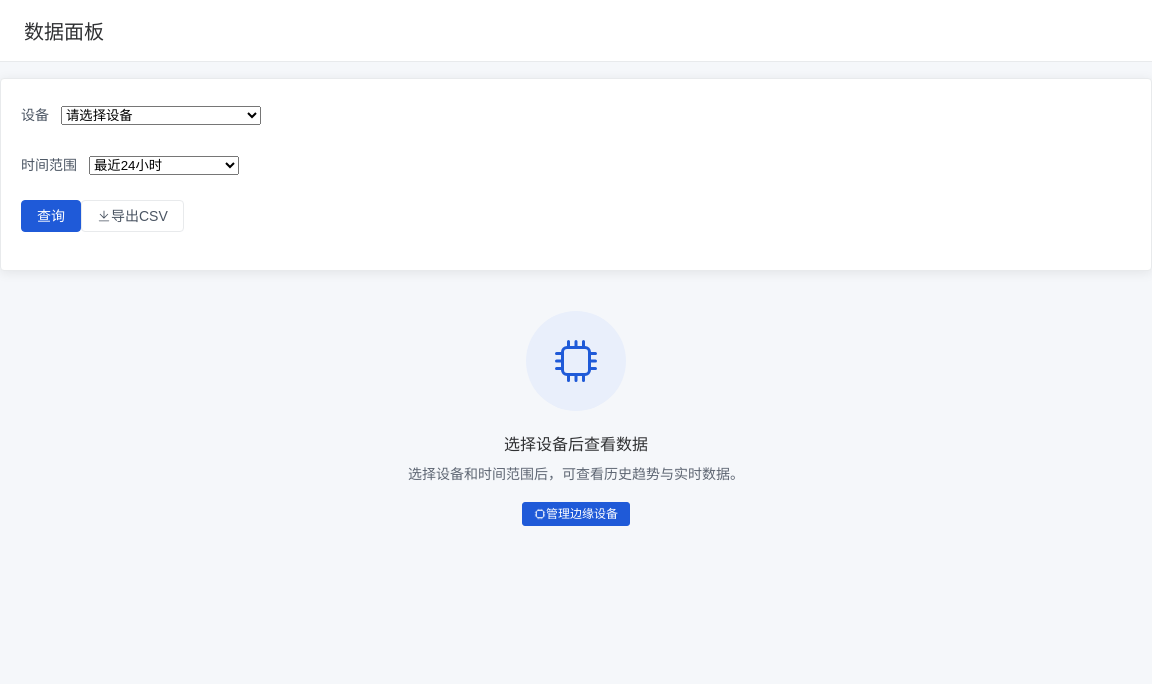
DataPanel › 每张统计卡都带范围词，且范围与实际计算口径一致
The width and height of the screenshot is (1152, 684).
Select "设备 1" in the 1st dropdown at (161, 115), box x1=61 y1=106 x2=261 y2=124
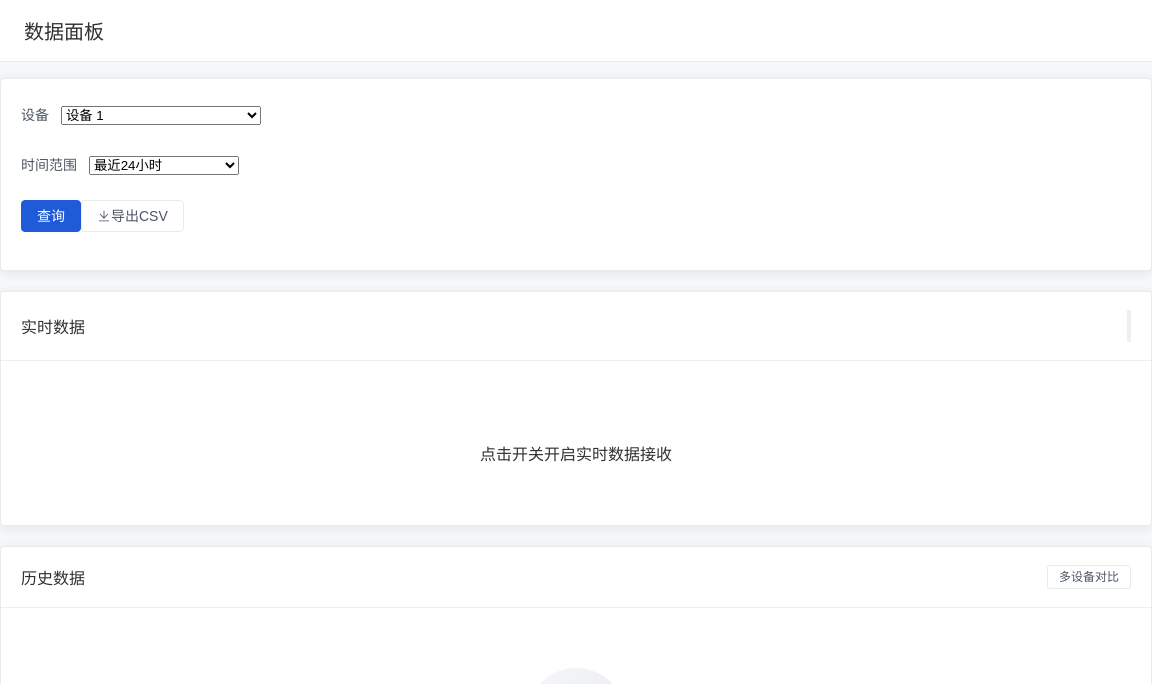
Click the button "查询" at (51, 216), box x1=21 y1=200 x2=81 y2=232
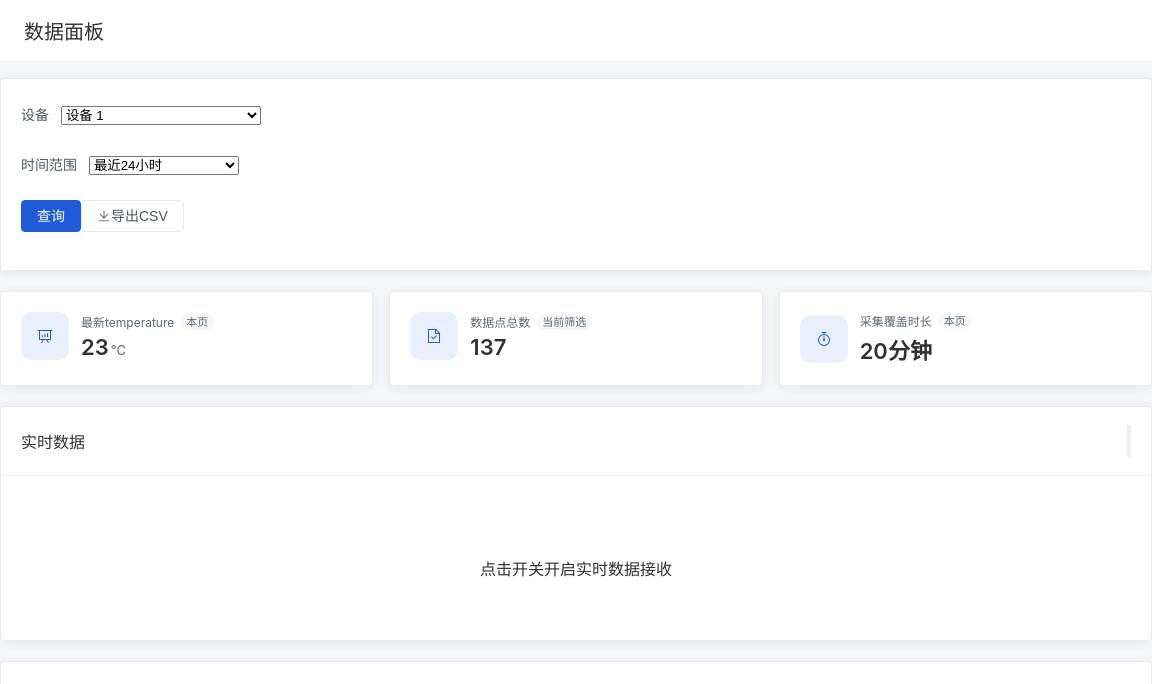
Now the 1st element with class "stat-card" is shown, box x1=0 y1=291 x2=373 y2=386
Now the element with class "stat-label" reads "数据点总数 当前筛选", box x1=542 y1=315 x2=586 y2=329
Now the element with class "stat-label" reads "采集覆盖时长 本页", box x1=944 y1=314 x2=966 y2=328
